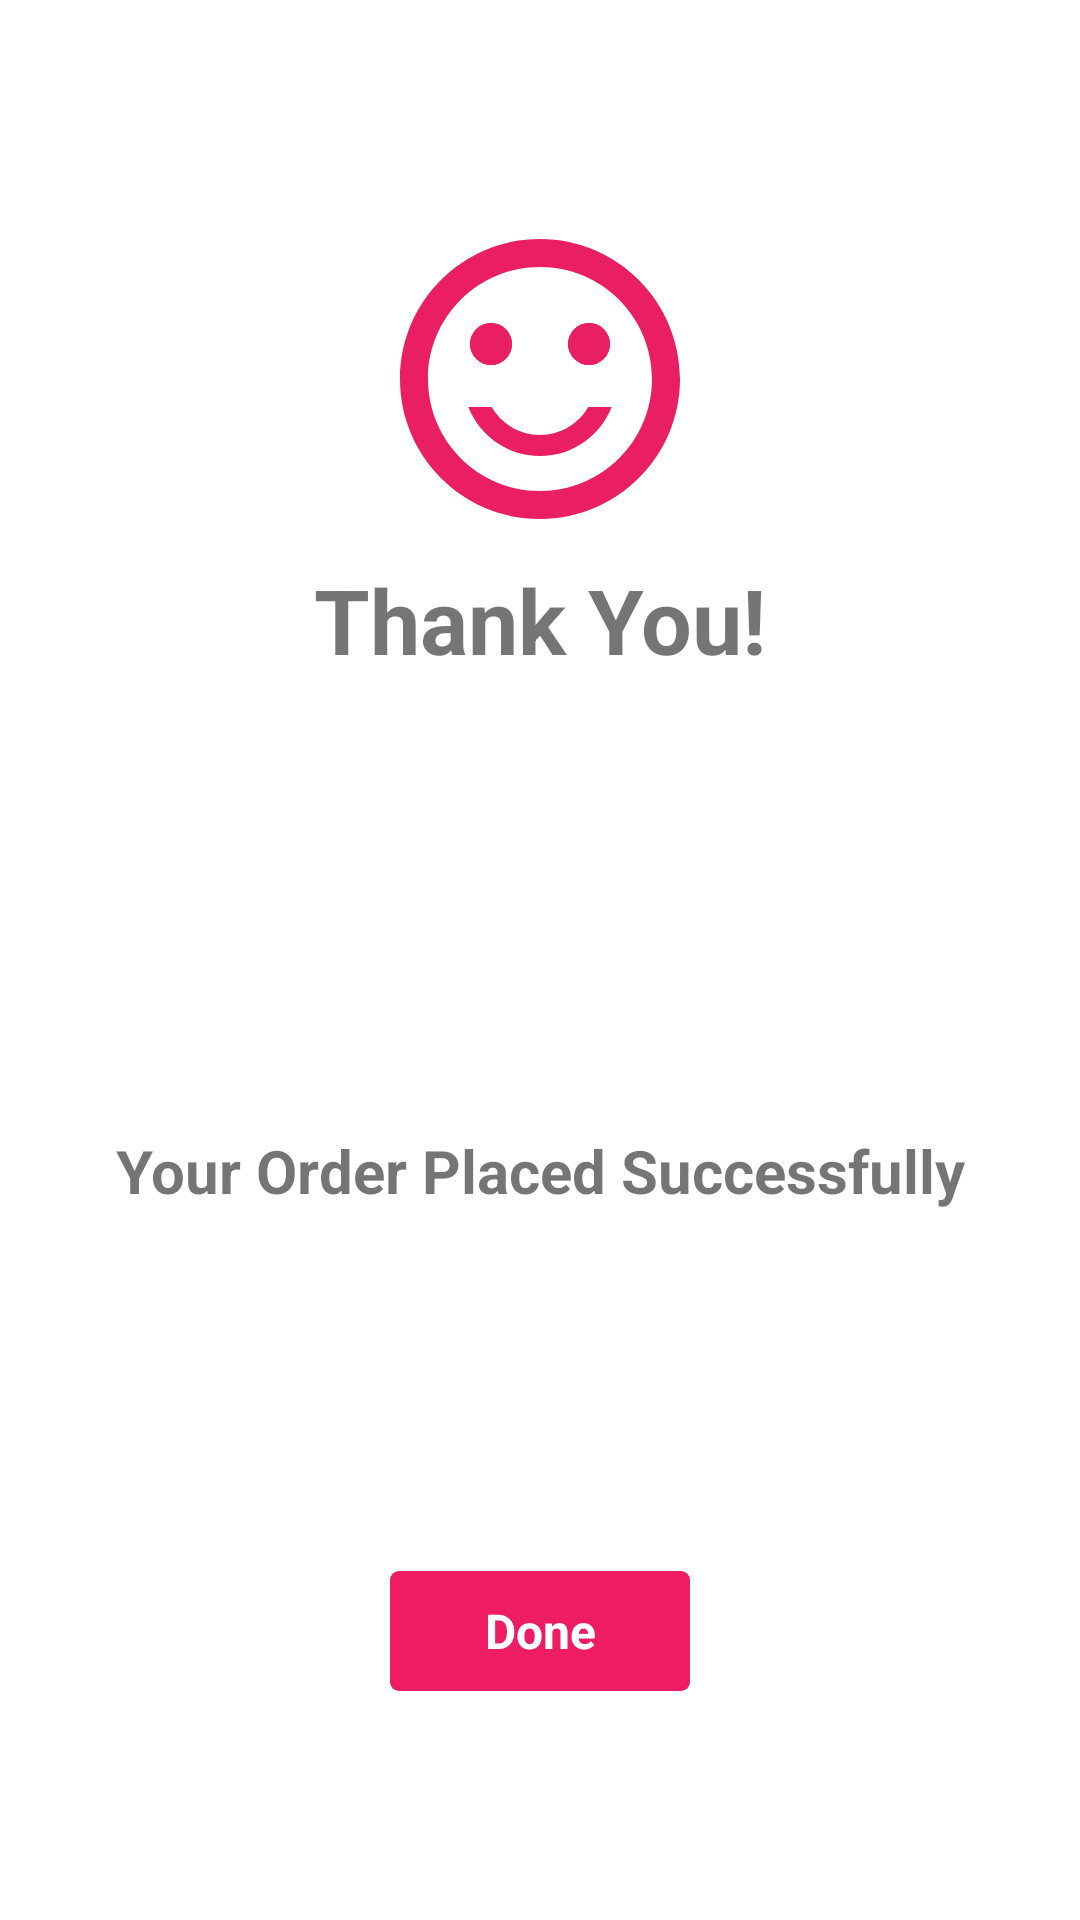

Icons on this 1080*1920 Android screen, each with the point to tap as [x,y]:
sentiment satisfied: [540,379]
